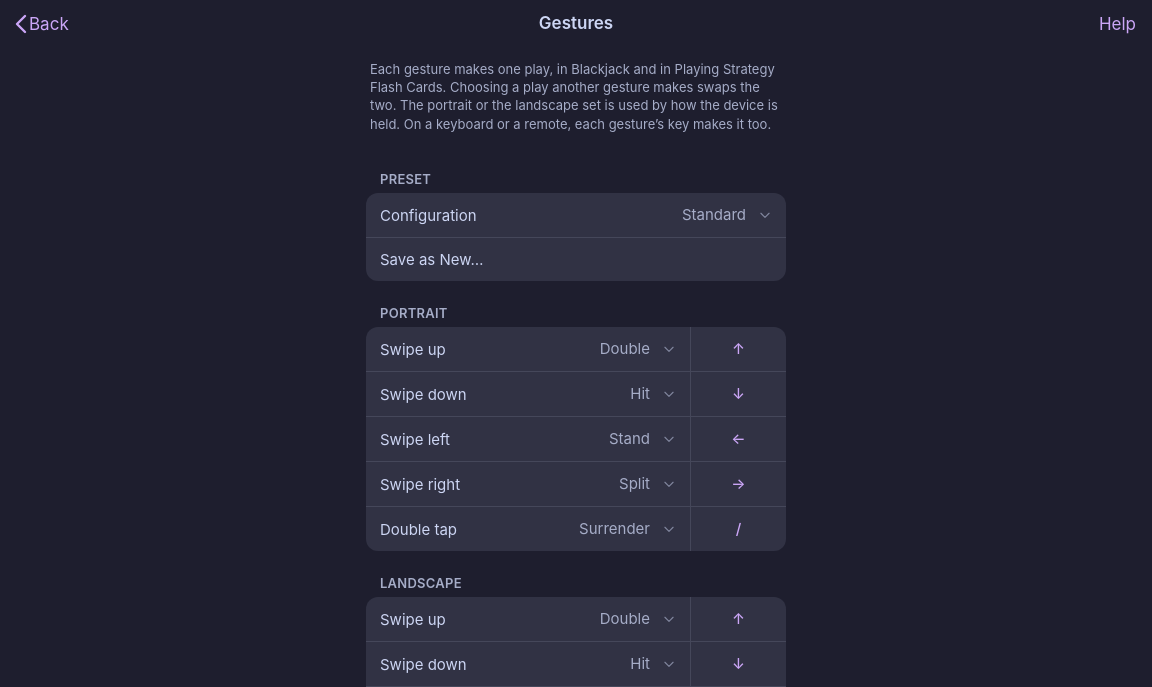
Test: Gestures › sets a gesture’s key from the next key pressed, swapping with the gesture that had it, and Escape keeps it
Click the button named "Portrait Double tap key: /". click: (738, 529)
box: [690,507,786,551]
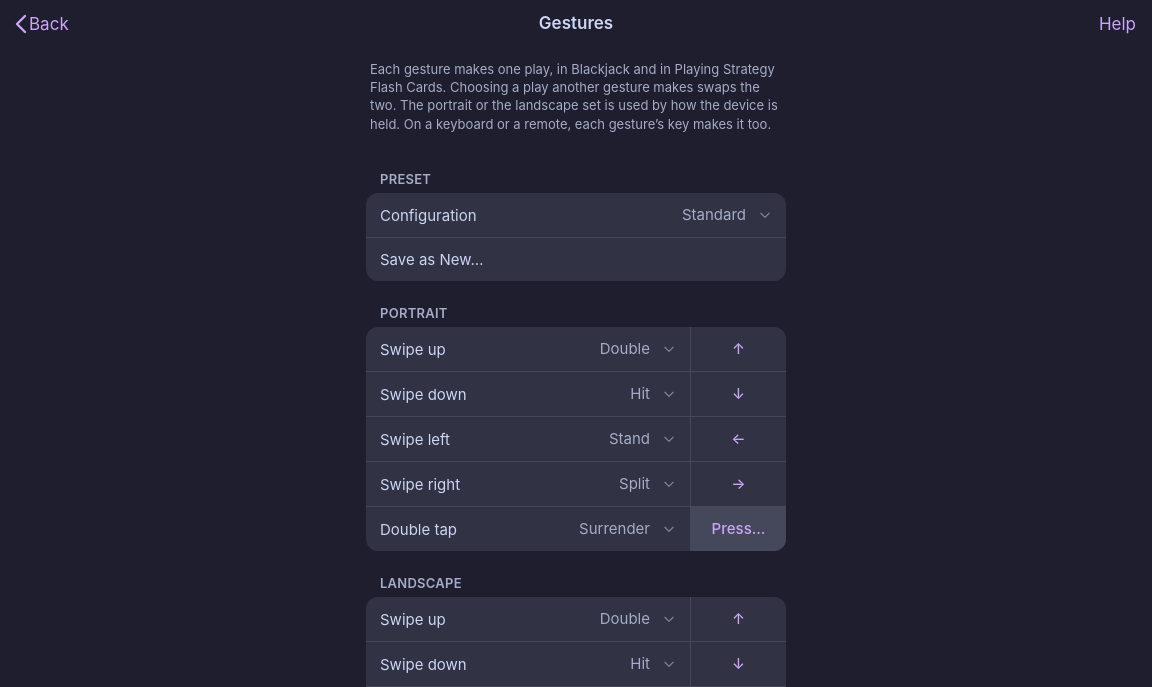
Now the button with aria-label "Portrait Double tap key: Press a key" is shown, box [690,507,786,551]
Press Arrowup
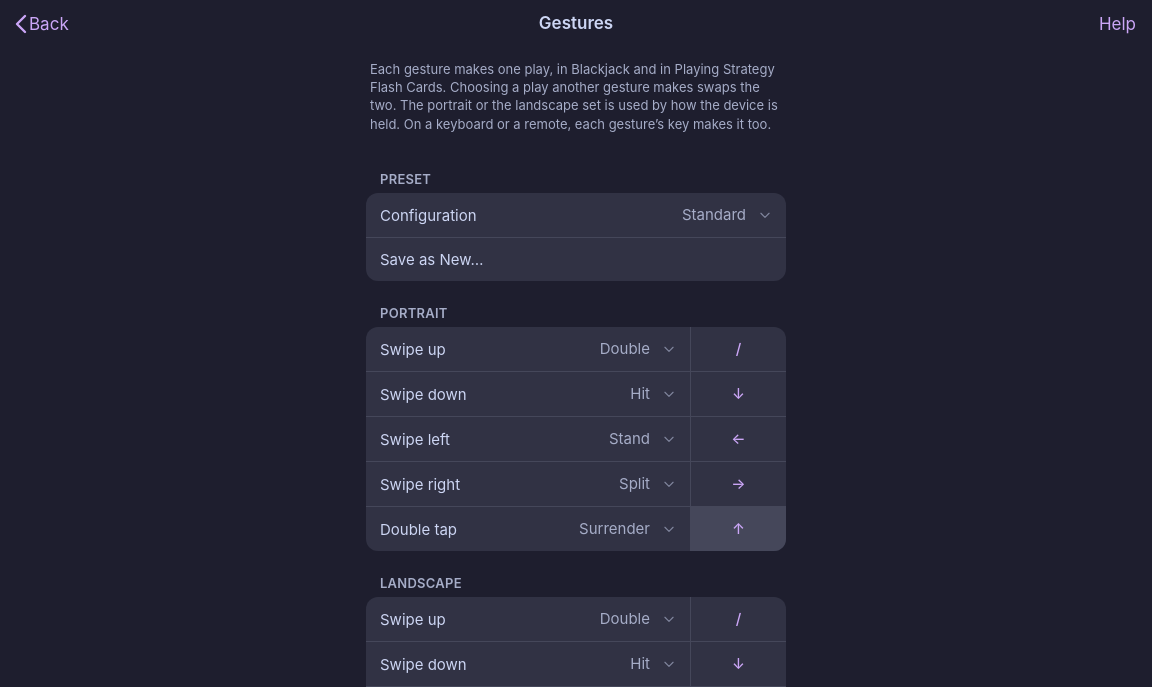
Now the button named "Portrait Swipe up key: /" is shown, box [690,327,786,371]
Click the button named "Portrait Swipe down key: ↓". click: (738, 394)
box: [690,372,786,416]
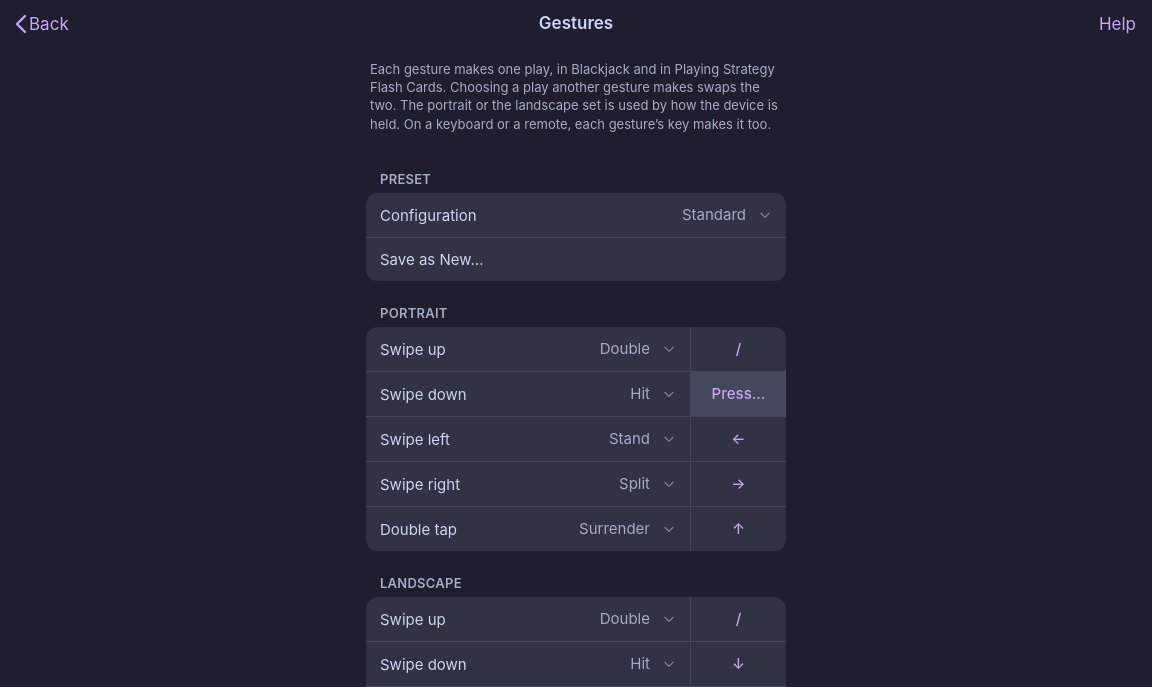
Type keys "{Shift>}K{/Shift}"
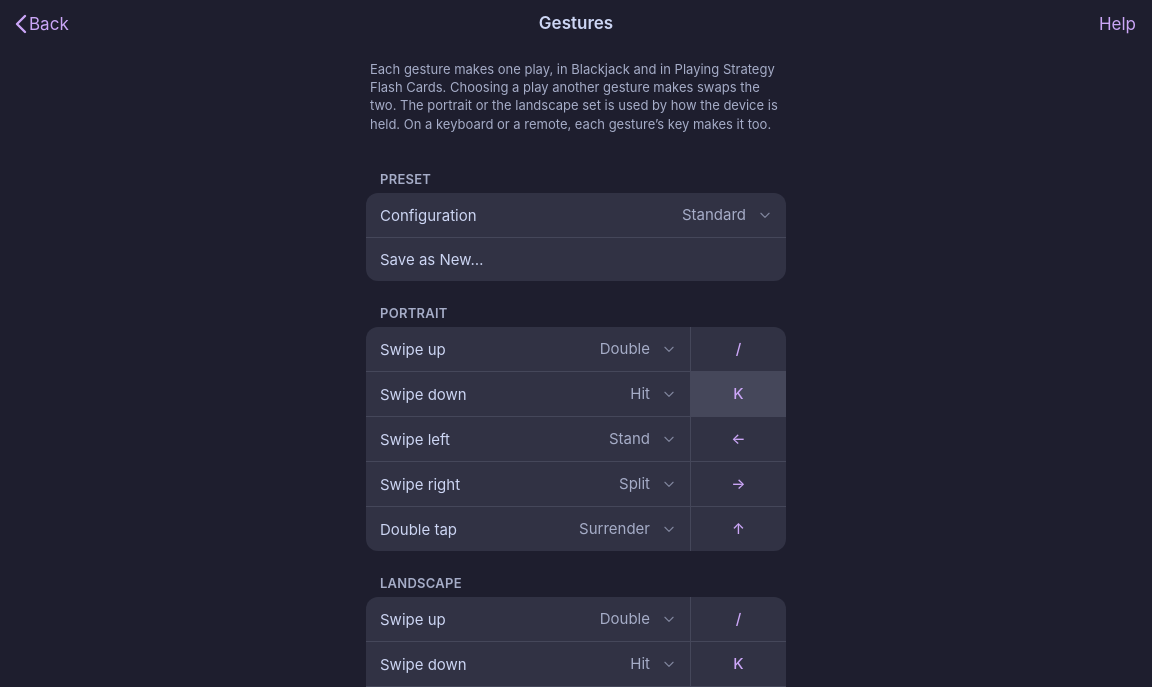
Click the button named "Portrait Swipe down key: K". click: (738, 394)
box: [690,372,786,416]
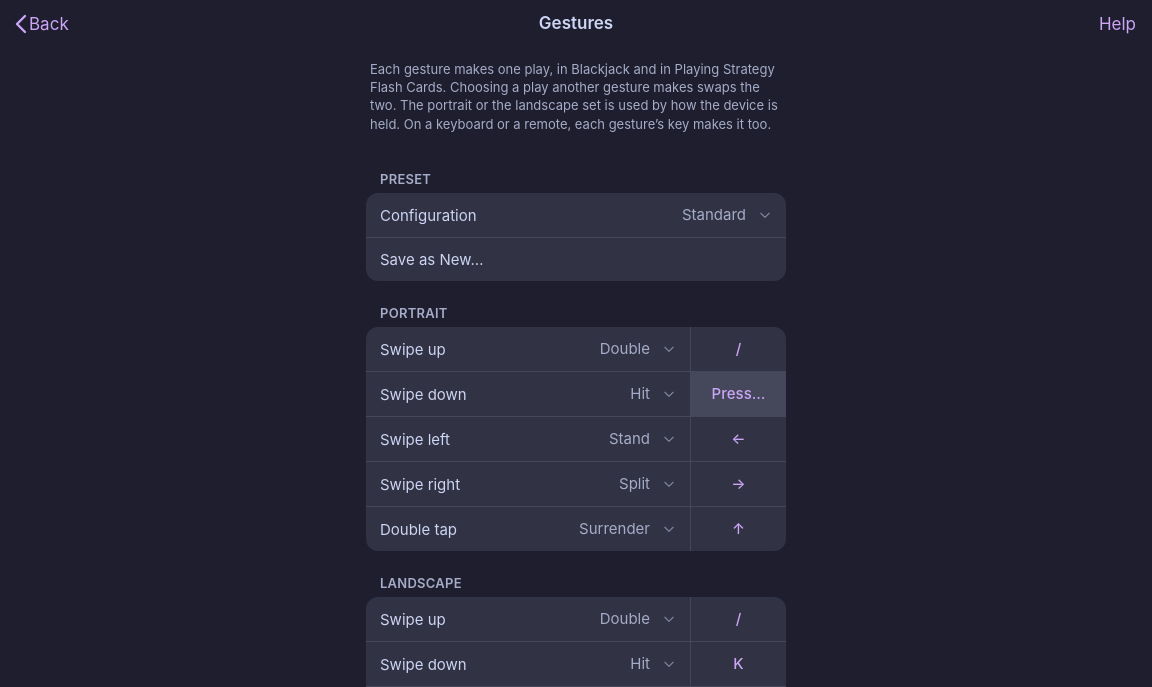
Press Escape
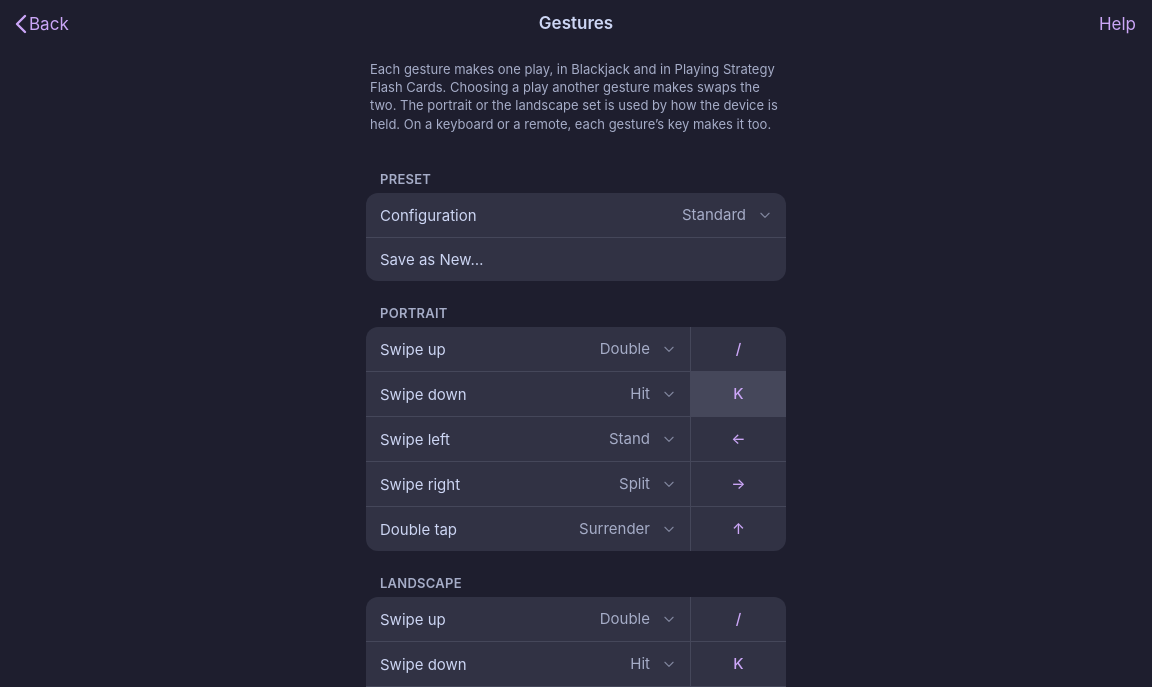
Now the button named "Portrait Swipe down key: K" is shown, box [690,372,786,416]
